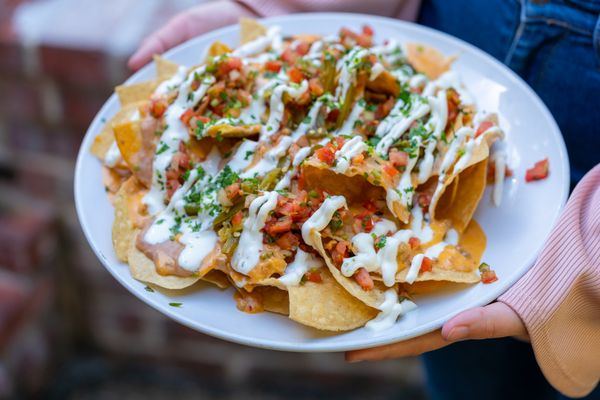sandwich: (97, 22, 525, 332)
